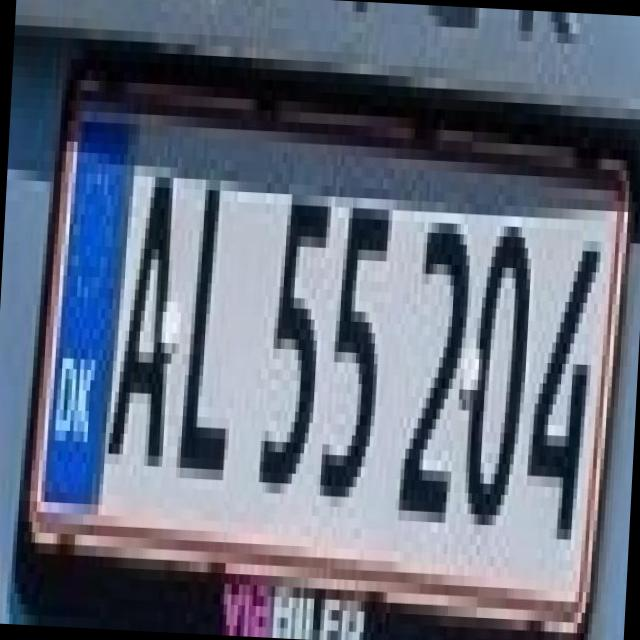0: (456, 214, 534, 516)
2: (392, 201, 472, 514)
4: (514, 207, 610, 530)
5: (294, 164, 402, 488), (252, 172, 336, 486)
A: (96, 144, 186, 467)
L: (165, 157, 254, 470)
